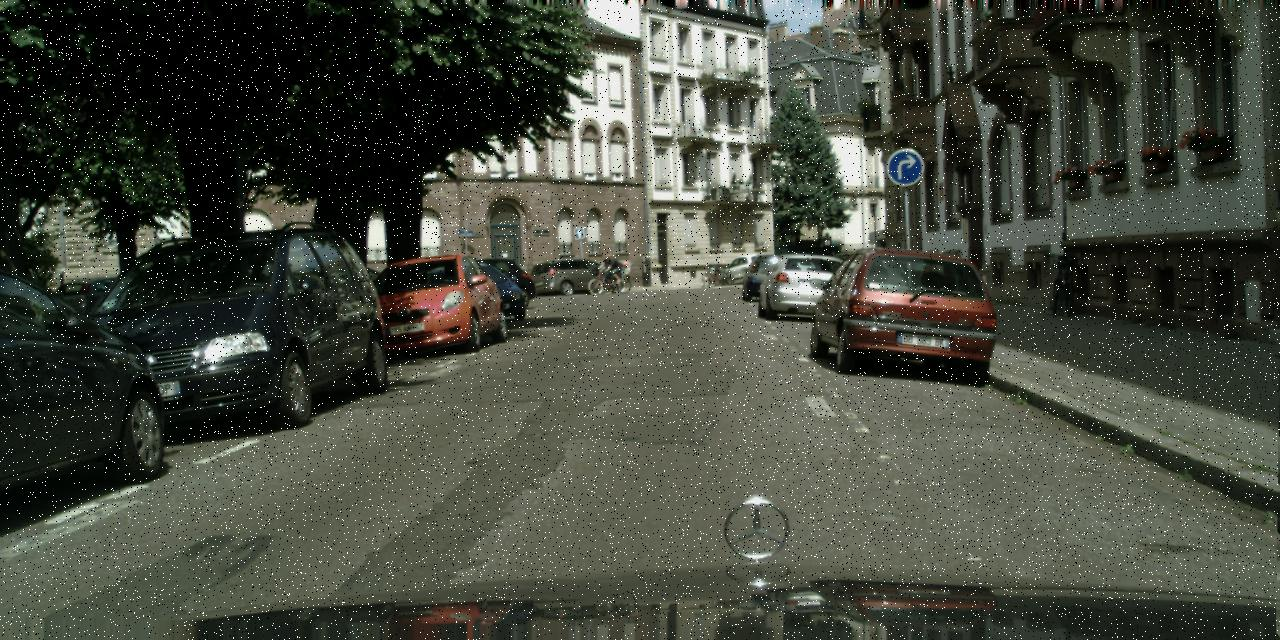ped: (600, 252, 614, 287), (606, 254, 618, 283)
